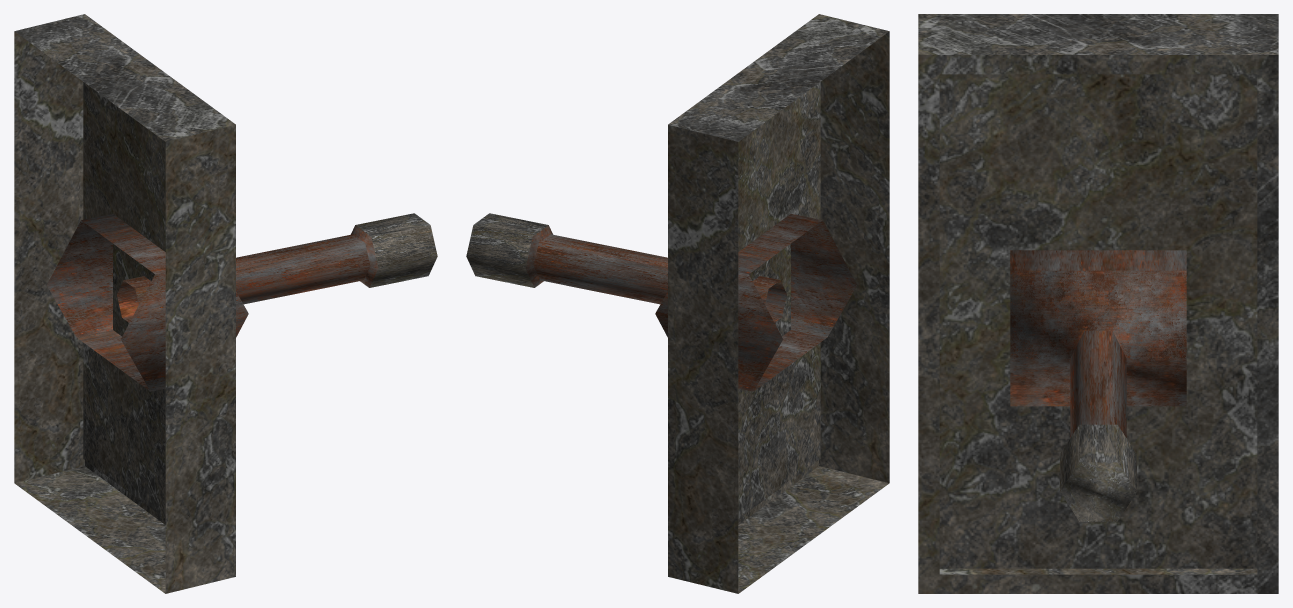
File: lever_anim12.obj
3 renders of one model, left to right at view 1: azimuth 30°, elevation 25°; view 2: azimuth 150°, elevation 25°; view 3: azimuth 270°, elevation 25°, orthographic. The views are drawn at different scales.
Parts seen in each view (by area): view 1: Cube, Cylinder; view 2: Cube, Cylinder; view 3: Cube, Cylinder.
Boxes of the visible parts, <box> form: Cube: <box>14,14,235,593</box>; Cylinder: <box>47,213,437,391</box>; Cube: <box>668,14,889,593</box>; Cylinder: <box>466,213,856,391</box>; Cube: <box>918,14,1278,593</box>; Cylinder: <box>1010,250,1186,521</box>.
Size of the model in its own units: 1.57 by 2 by 1.21.
2 materials, 2 textured.
